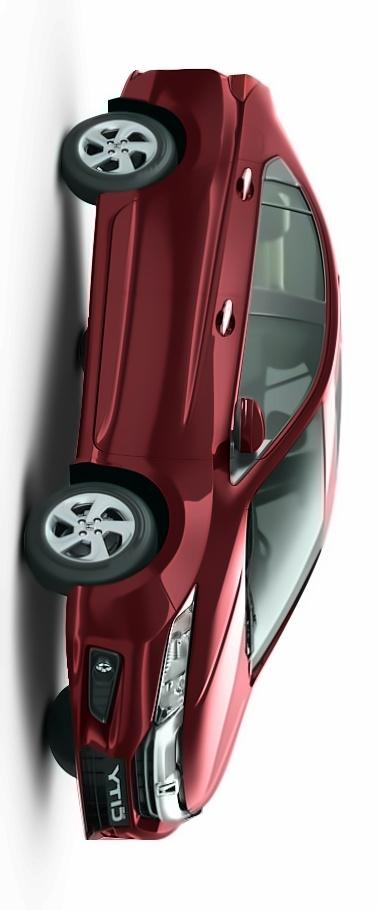Car hood: (177, 504, 256, 821)
Driver-s door - -F-R-: (89, 290, 340, 456)
Fender - -F-R-: (67, 452, 267, 610)
Fender - -R-R-: (94, 113, 272, 202)
Front bumper: (53, 572, 171, 848)
Headlight - -R-: (147, 579, 205, 731)
Passenger-s door - -R-R-: (99, 157, 340, 292)
Rear bumper: (102, 57, 201, 120)
Rear light - -R-: (220, 64, 269, 110)
Side bumper - -R-: (65, 184, 118, 496)
Side mirror - -R-: (223, 393, 276, 464)
